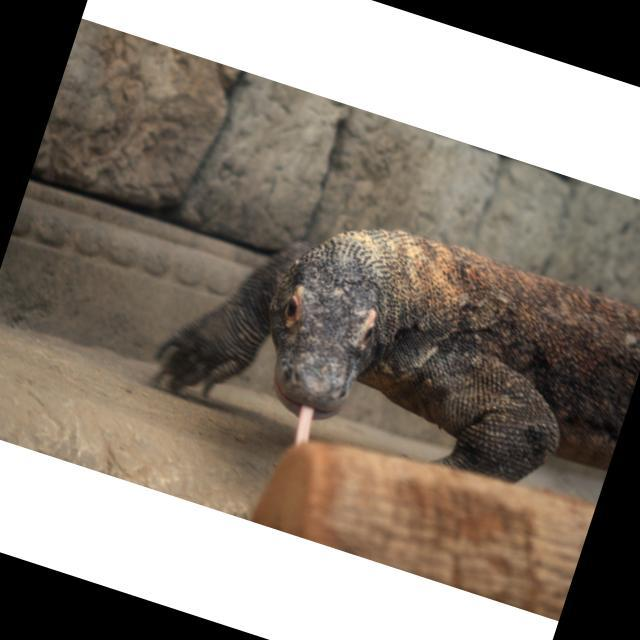KomodoDragon: (141, 164, 640, 537)
